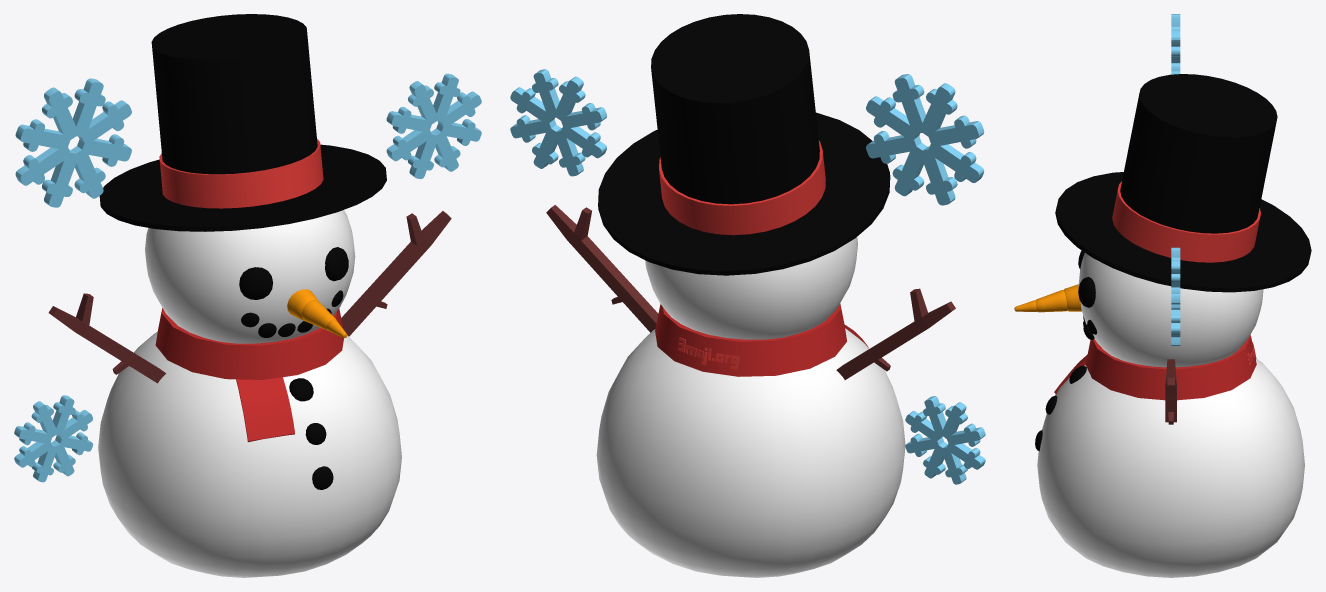
File: snowman.fbx
The picture shows the model from 3 angles, left to right: view 1: azimuth 30°, elevation 25°; view 2: azimuth 150°, elevation 25°; view 3: azimuth 270°, elevation 25°; orthographic projection. The views are drawn at different scales.
Visible parts, largest first — view 1: Cube.215; view 2: Cube.215; view 3: Cube.215.
Boxes of the visible parts, left/top/right/bottom form: Cube.215: left=14, top=14, right=481, bottom=577; Cube.215: left=510, top=14, right=985, bottom=577; Cube.215: left=1014, top=14, right=1311, bottom=577.
Size of the model in its own units: 206 by 217 by 128.
Materials: 1 (1 with a texture image).
